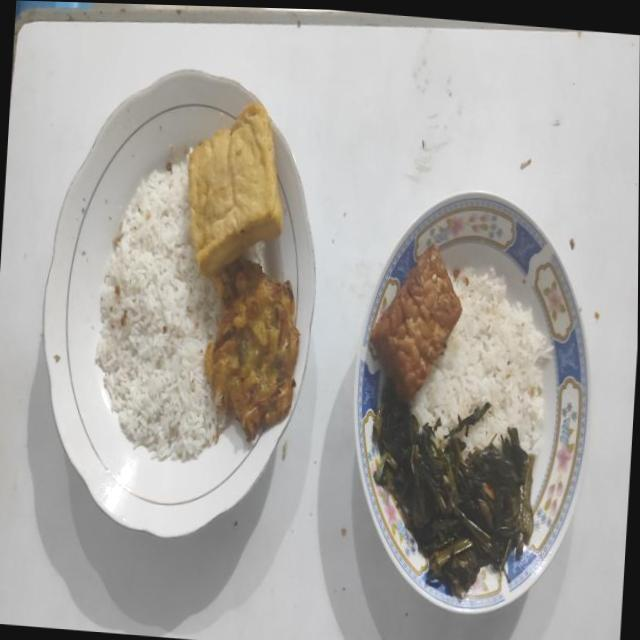nasi_putih: (96, 163, 227, 462), (410, 269, 548, 455)
tahu_goreng: (188, 103, 282, 276)
tempe_goreng: (370, 247, 462, 401)
tumis_kangkung: (372, 380, 534, 596)
